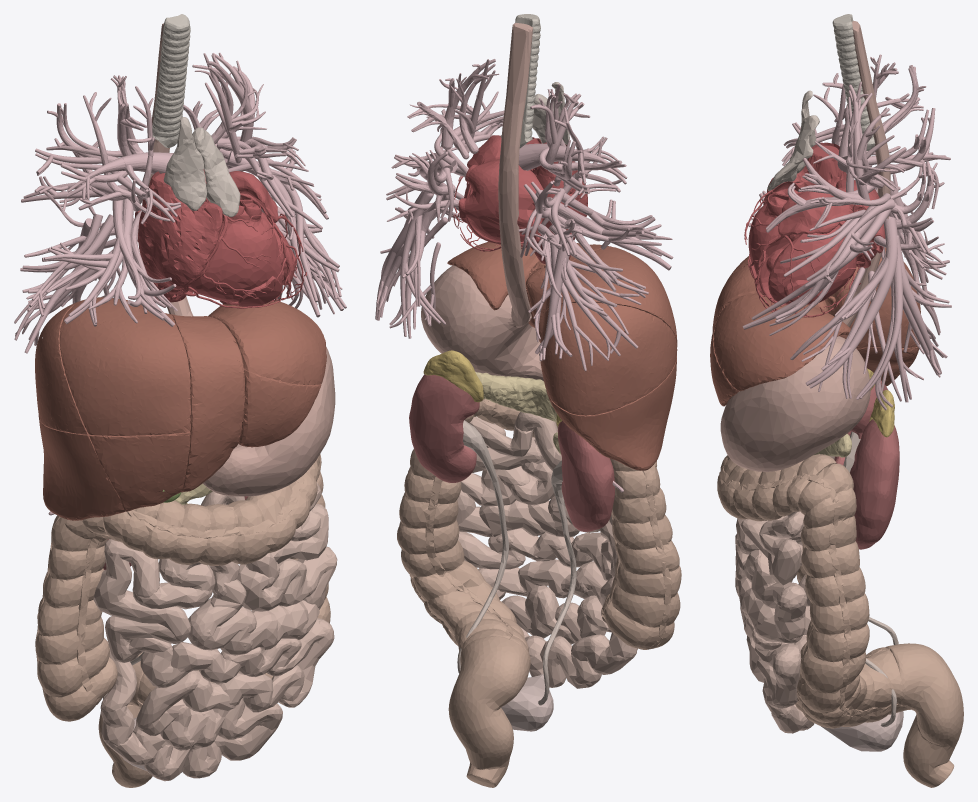
The model's file is organs.glb.
3 renders of one model, left to right at view 1: azimuth 30°, elevation 25°; view 2: azimuth 150°, elevation 25°; view 3: azimuth 270°, elevation 25°, orthographic. The views are drawn at different scales.
Parts seen in each view (by area): view 1: organs; view 2: organs; view 3: organs.
Part boxes in pixels (x1=…): organs: x1=14, y1=14, x2=346, y2=787; organs: x1=375, y1=14, x2=681, y2=787; organs: x1=710, y1=14, x2=963, y2=787.
Size of the model in its own units: 0.2522 by 0.638 by 0.1911.
